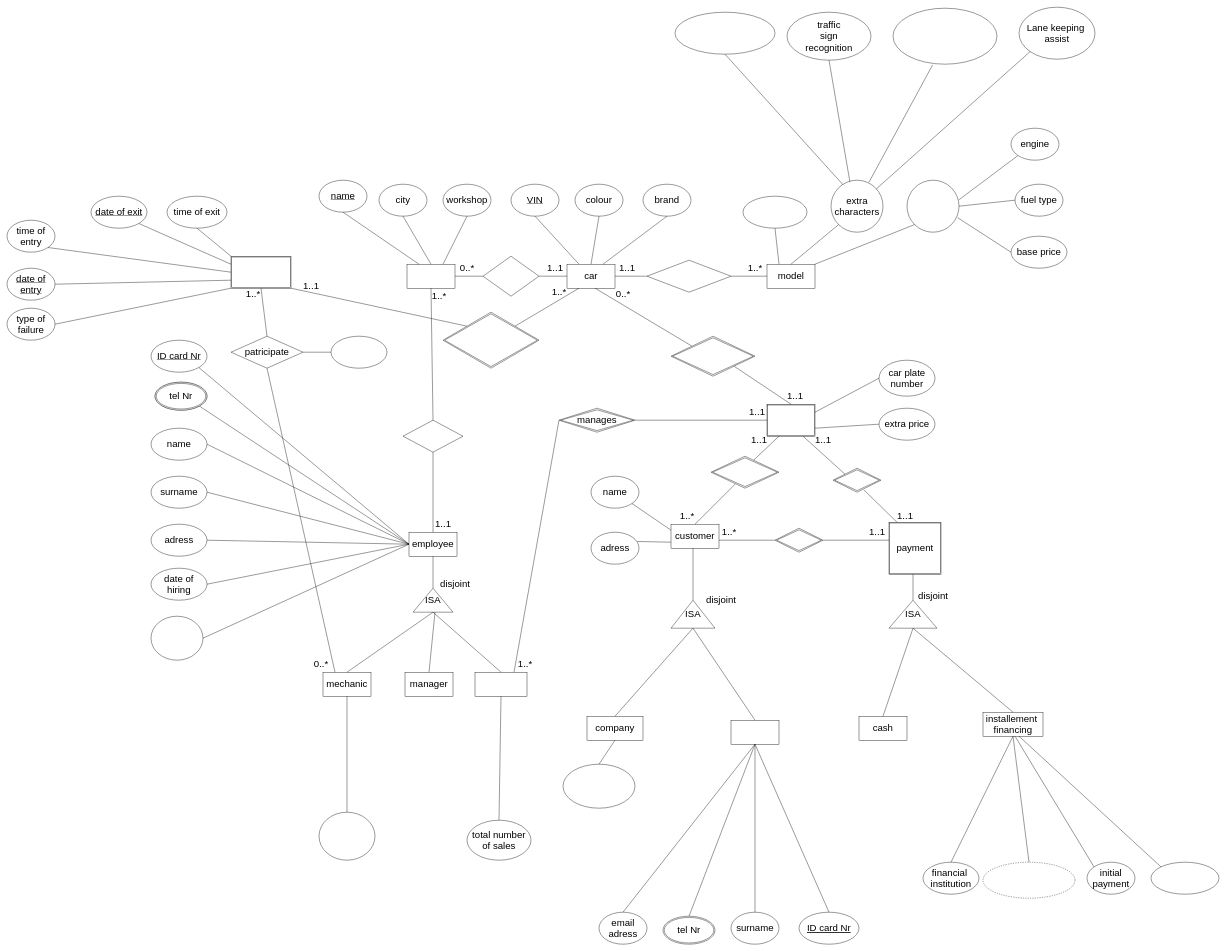
Some shapes in this 1226 by 951 pixel diagram are drawn without their labels. Here are the shapes that lost their labels. From the top down, the centre of each, then its label:
pixel 725 33: emergency brake assist
pixel 945 36: LED daytime running lights front and rear
pixel 775 212: model name
pixel 933 206: basic characters
pixel 261 272: maintenance task
pixel 431 276: dealership
pixel 511 276: belongs to
pixel 689 276: has model
pixel 359 352: time spent
pixel 491 340: reparation of
pixel 713 356: sold
pixel 433 436: employs
pixel 791 420: sale
pixel 745 472: Sold by
pixel 857 480: paid
pixel 799 540: pay
pixel 177 638: gross annual salary
pixel 501 684: saleperson
pixel 755 732: individual
pixel 599 786: commercial identification number
pixel 347 836: repairs carried-out
pixel 1029 880: payment of each month
pixel 1185 878: Number of months
